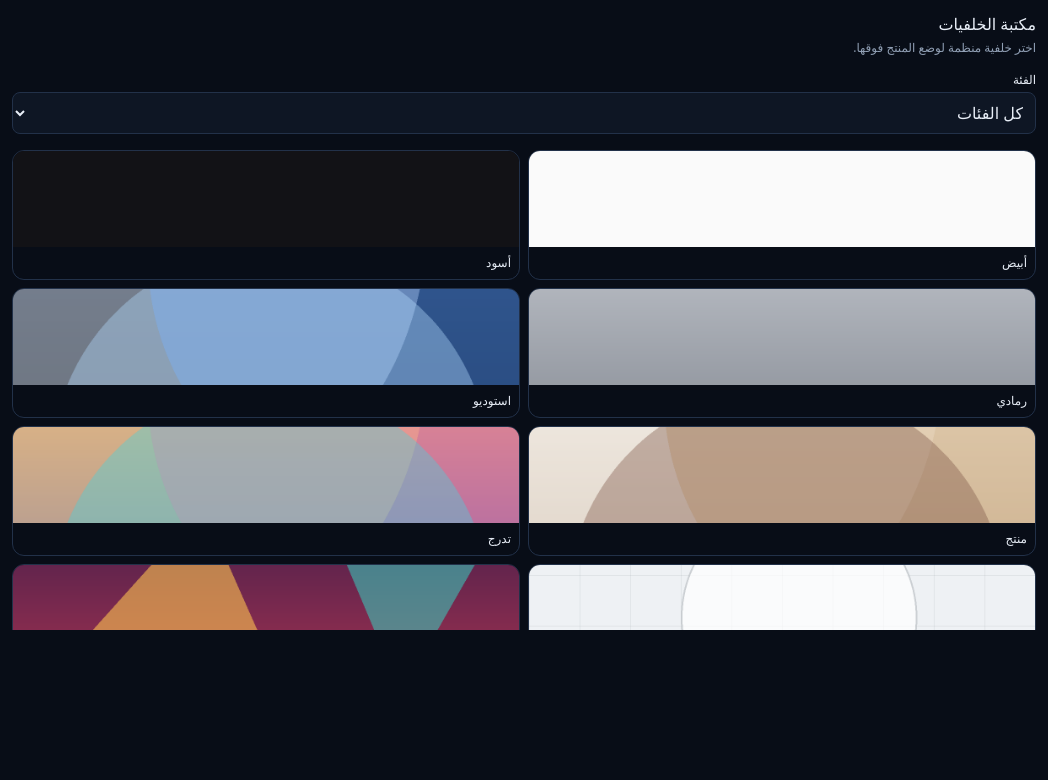
Test case: shows translated error when a library asset cannot be loaded
Click the button "استوديو".
click(266, 353)  # box [12,288,520,418]
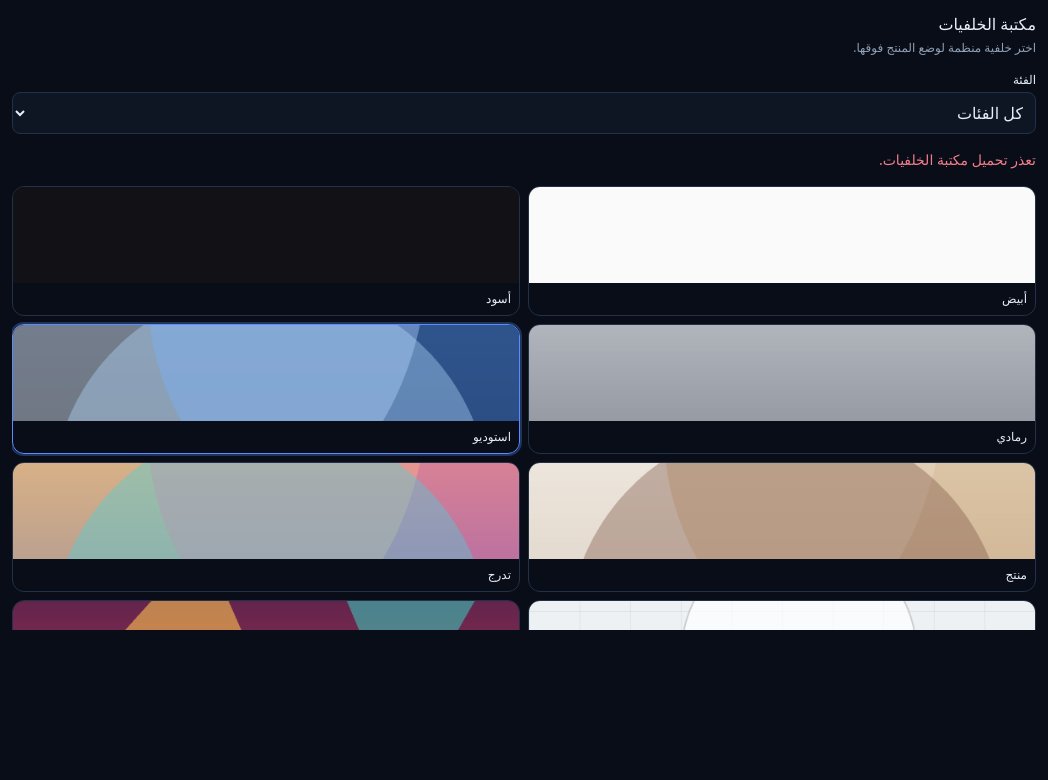
Result: the message reads "تعذر تحميل مكتبة الخلفيات." at [879,150,1036,169]
